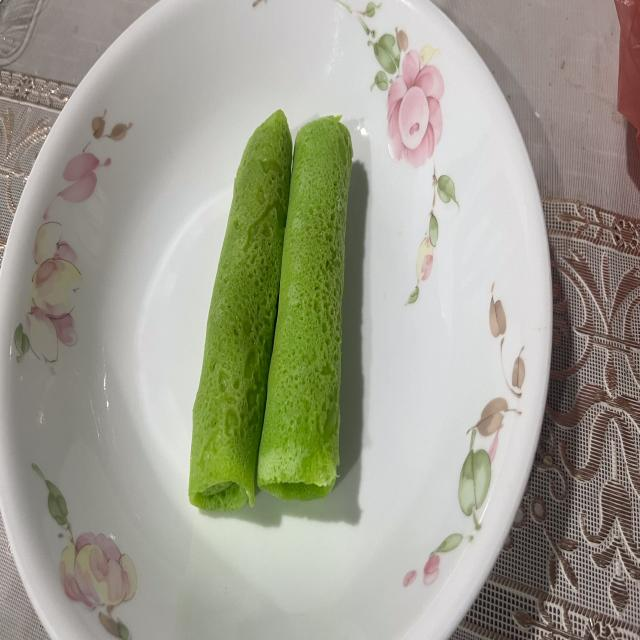Kuih-Ketayap: (189, 111, 292, 511), (258, 118, 352, 500)
